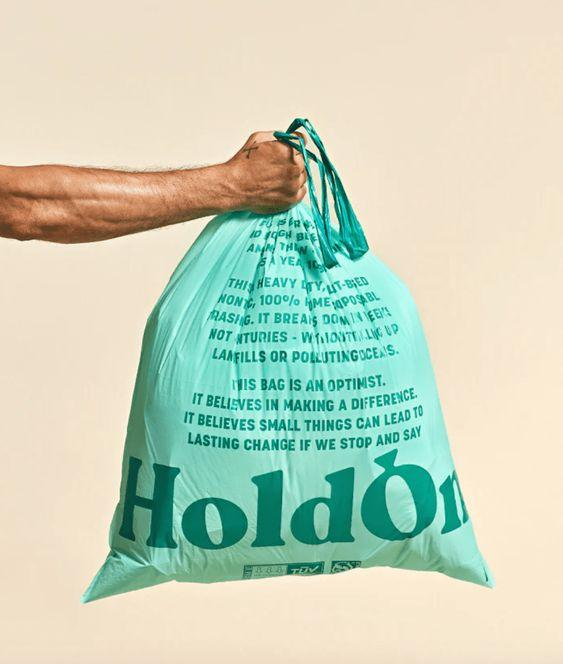PETE: (80, 198, 494, 606)
